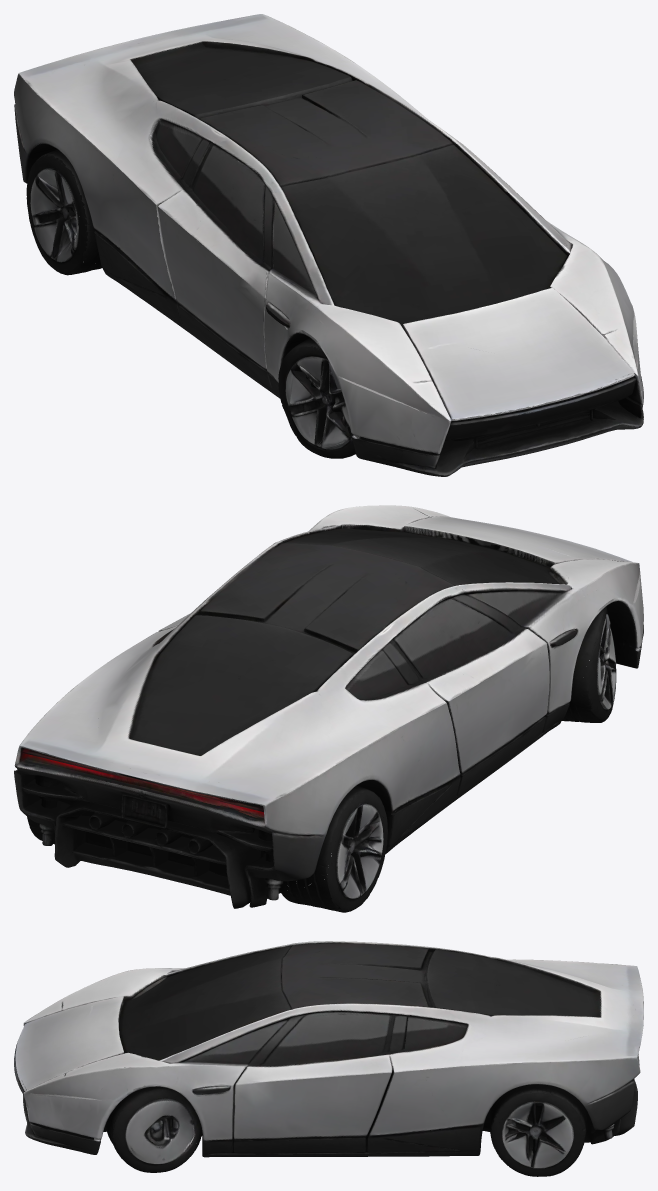
The model's file is roadster.glb.
The picture shows the model from 3 angles, top to bottom: view 1: azimuth 30°, elevation 25°; view 2: azimuth 150°, elevation 25°; view 3: azimuth 270°, elevation 25°; orthographic projection. The views are drawn at different scales.
Parts seen in each view (by area): view 1: body, wheel_FR, wheel_RR; view 2: body, wheel_RR, wheel_FR; view 3: body, wheel_RL, wheel_FL.
Boxes of the visible parts, box(x1,y1,x2,y2) form: body: box(14, 14, 643, 476); wheel_FR: box(278, 351, 355, 458); wheel_RR: box(26, 165, 102, 275); body: box(14, 505, 643, 908); wheel_RR: box(279, 804, 387, 912); wheel_FR: box(561, 614, 616, 722); body: box(14, 941, 643, 1158); wheel_RL: box(494, 1101, 584, 1176); wheel_FL: box(108, 1097, 198, 1172).
Size of the model in its own units: 1.9 by 1.16 by 4.37.
Materials: 1 (1 with a texture image).
